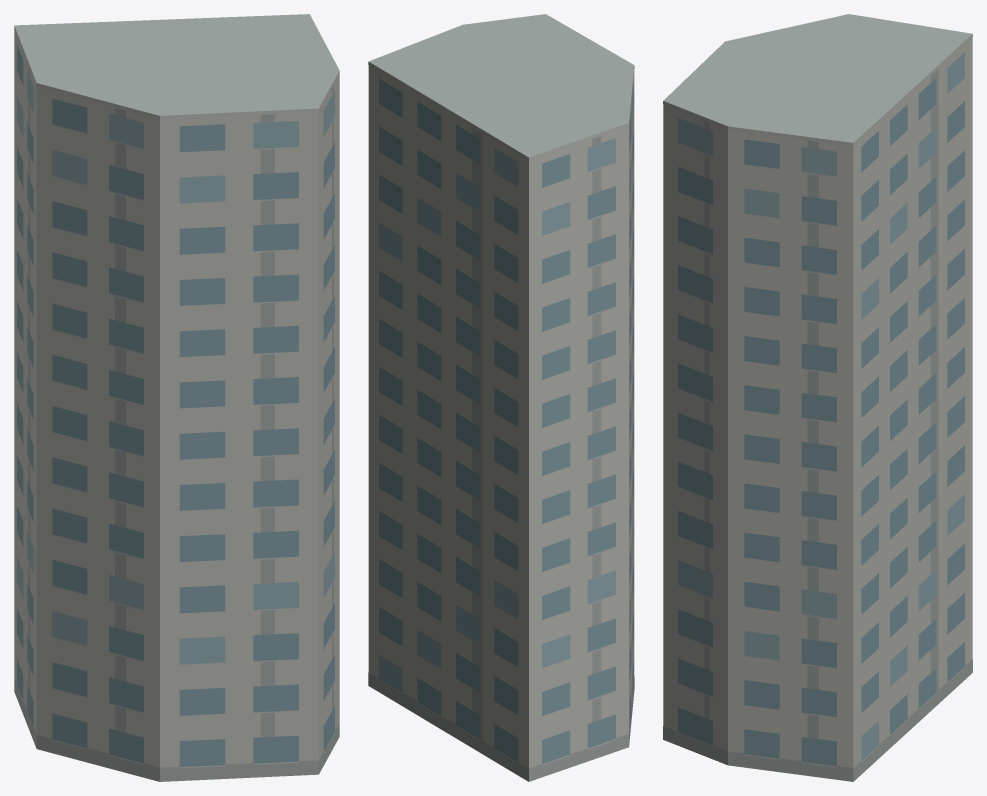
File: residential-2d14eb47-3986-4338-9718-b031bec0a9d0.glb
3 renders of one model, left to right at view 1: azimuth 30°, elevation 25°; view 2: azimuth 150°, elevation 25°; view 3: azimuth 270°, elevation 25°, orthographic. The views are drawn at different scales.
Parts seen in each view (by area): view 1: residential-2d14eb47-3986-4338-9718-b031bec0a9d0.tmp; view 2: residential-2d14eb47-3986-4338-9718-b031bec0a9d0.tmp; view 3: residential-2d14eb47-3986-4338-9718-b031bec0a9d0.tmp.
Boxes of the visible parts, x1,y1,x2,y2 form: residential-2d14eb47-3986-4338-9718-b031bec0a9d0.tmp: [14, 14, 339, 781]; residential-2d14eb47-3986-4338-9718-b031bec0a9d0.tmp: [368, 14, 634, 781]; residential-2d14eb47-3986-4338-9718-b031bec0a9d0.tmp: [663, 14, 972, 781].
Bounding box in the file's own units: 18.62 × 43 × 18.89.
